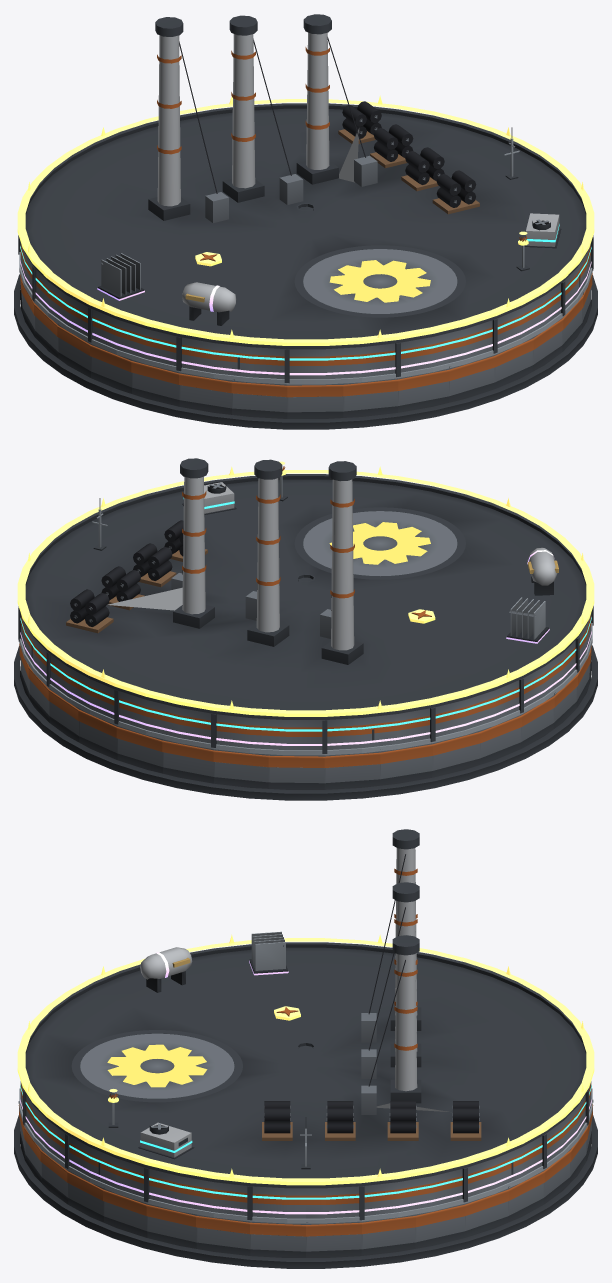
Rendered from carbon_works_l_far.glb.
The picture shows the model from 3 angles, top to bottom: view 1: azimuth 30°, elevation 25°; view 2: azimuth 150°, elevation 25°; view 3: azimuth 270°, elevation 25°; orthographic projection.
Parts seen in each view (by area): view 1: Roof, Base, L5, L4, L2, L3; view 2: Roof, Base, L5, L4, L2, L3; view 3: Roof, Base, L5, L4, L2, L3.
Part boxes in pixels (x1=…): Roof: x1=18, y1=14, x2=593, y2=383; Base: x1=14, y1=273, x2=597, y2=429; L5: x1=17, y1=95, x2=594, y2=345; L4: x1=20, y1=253, x2=591, y2=375; L2: x1=19, y1=127, x2=592, y2=384; L3: x1=20, y1=203, x2=591, y2=360; Roof: x1=18, y1=458, x2=593, y2=753; Base: x1=14, y1=643, x2=597, y2=800; L5: x1=17, y1=461, x2=594, y2=716; L4: x1=20, y1=547, x2=591, y2=745; L2: x1=19, y1=498, x2=592, y2=755; L3: x1=20, y1=482, x2=591, y2=731; Roof: x1=20, y1=829, x2=591, y2=1220; Base: x1=14, y1=1100, x2=597, y2=1268; L5: x1=17, y1=934, x2=594, y2=1185; L4: x1=20, y1=931, x2=591, y2=1214; L2: x1=19, y1=1087, x2=592, y2=1223; L3: x1=20, y1=1042, x2=591, y2=1199.
Size of the model in its own units: 18.96 by 9.6 by 18.96.
